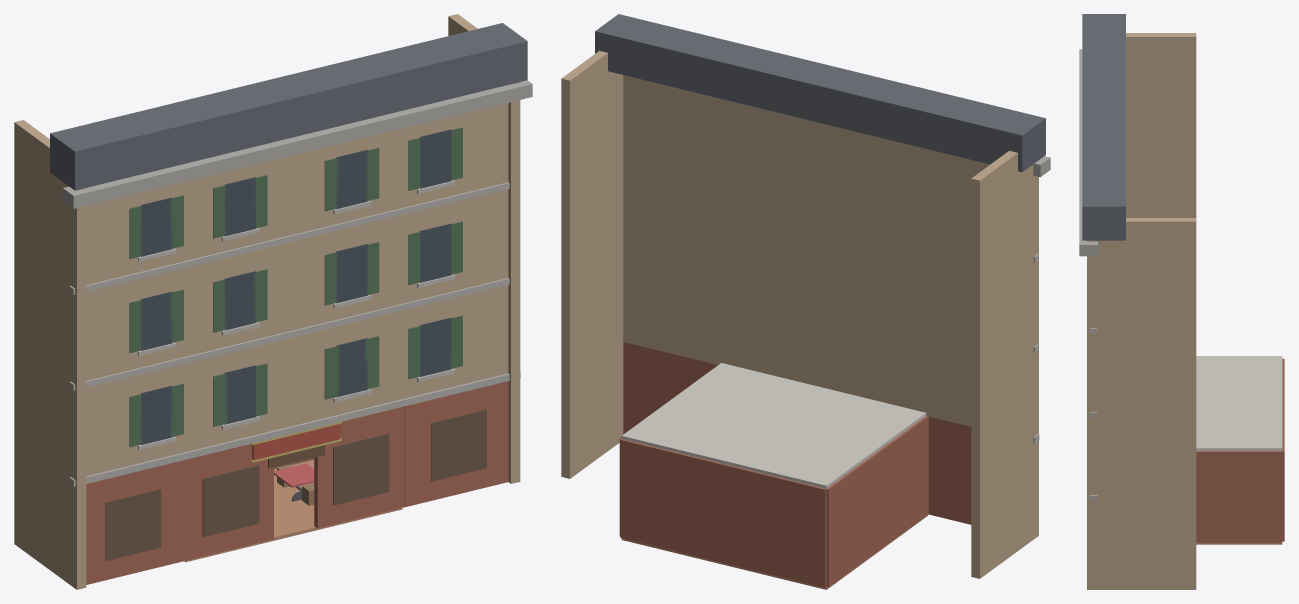
Rendered from pizzeria_interior.glb.
3 views of the same model, side by side, from view 1: azimuth 30°, elevation 25°; view 2: azimuth 150°, elevation 25°; view 3: azimuth 270°, elevation 25° (orthographic). The views are drawn at different scales.
Parts seen in each view (by area): view 1: geometry_0; view 2: geometry_0; view 3: geometry_0.
Boxes of the visible parts, bbox=[...] form: geometry_0: bbox=[14, 14, 532, 589]; geometry_0: bbox=[561, 14, 1050, 589]; geometry_0: bbox=[1079, 14, 1284, 589].
Size of the model in its own units: 14.8 by 13.83 by 6.58.
